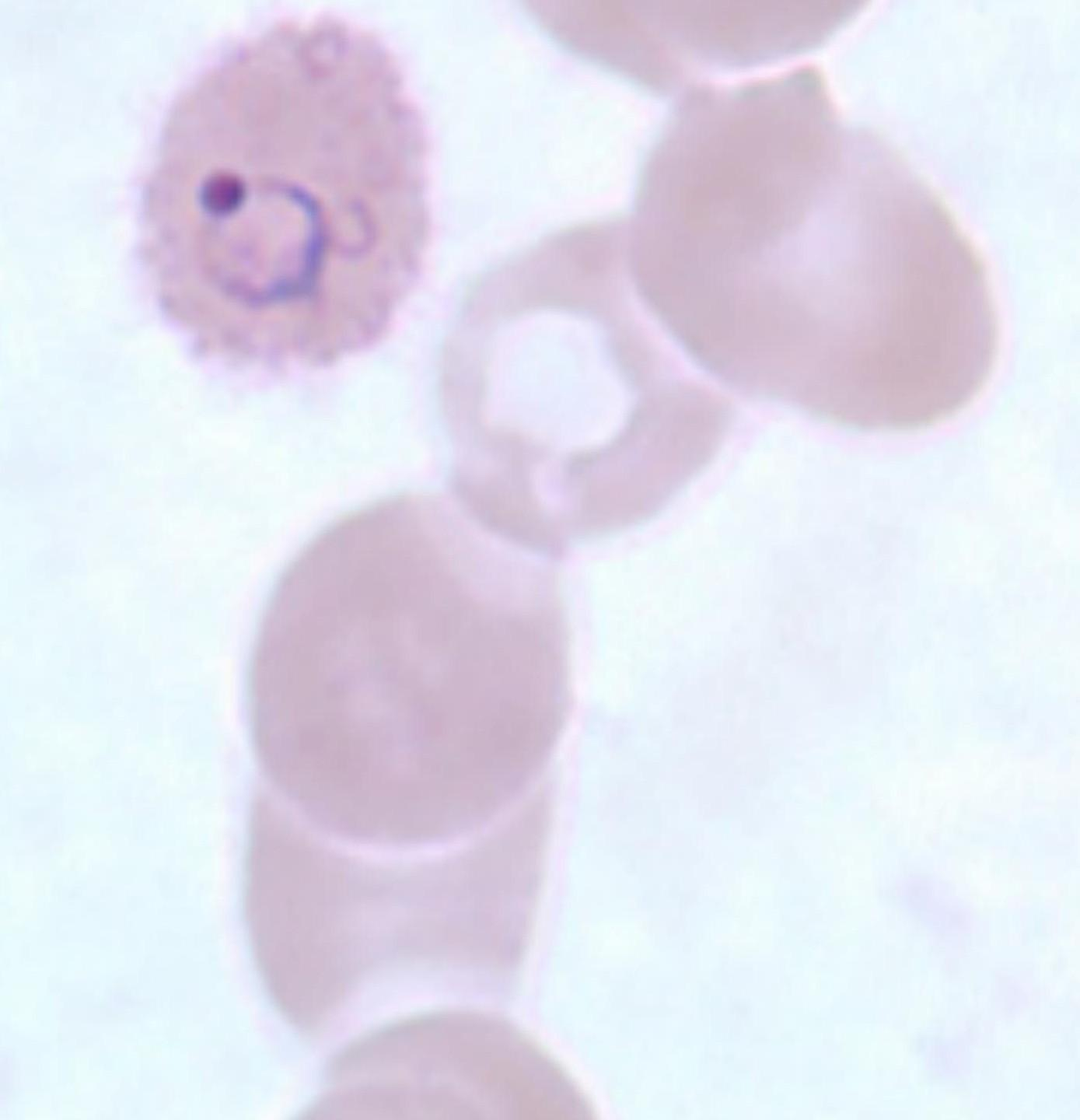Infected: (124, 11, 437, 373)
Uninfected: (632, 84, 999, 432), (249, 504, 603, 848), (244, 719, 563, 1040), (446, 219, 734, 551)
